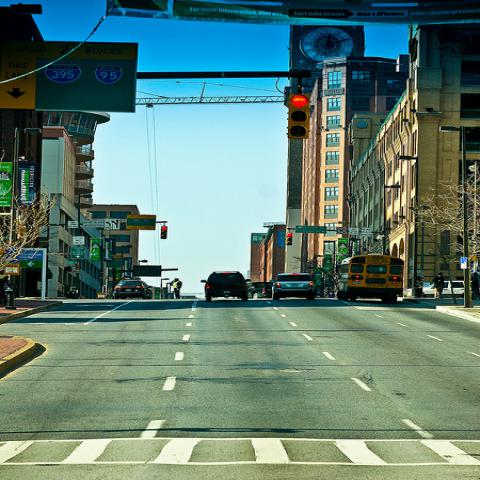bus: (334, 256, 404, 303)
car: (200, 270, 252, 301), (270, 273, 315, 301), (402, 281, 464, 298), (112, 278, 154, 300), (246, 282, 272, 298)
